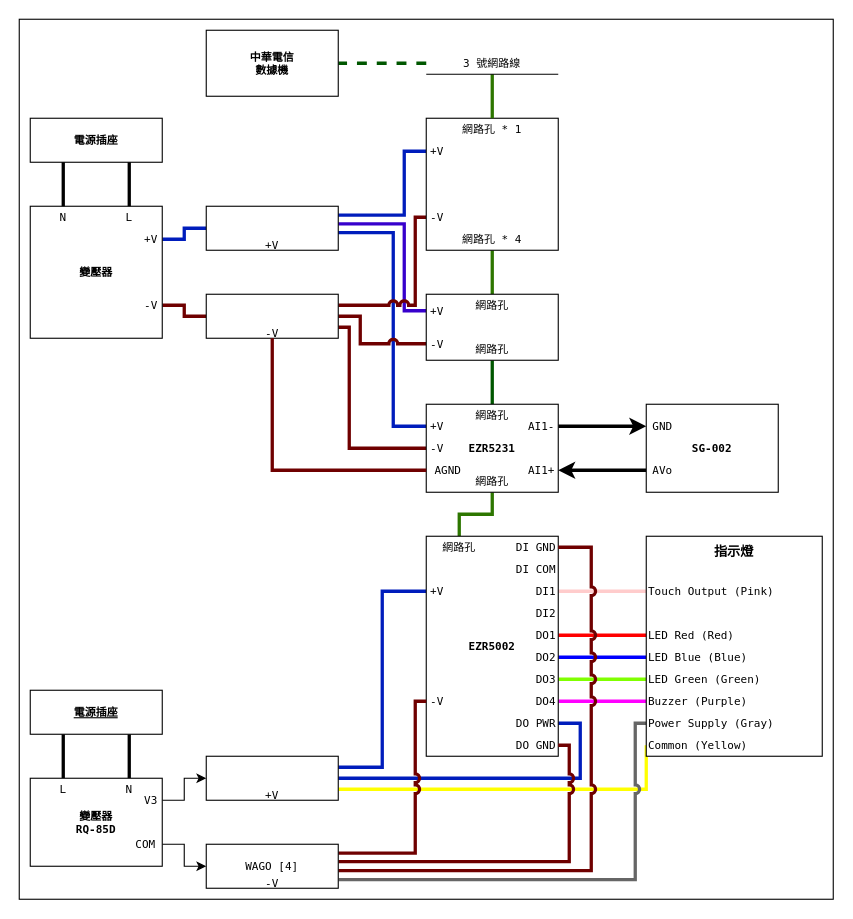
The diagram is 853 pixels wide and 919 high, and some of its shapes have lost their labels. Each missing label, with the box of its shape:
Gateway: (425, 293, 558, 360)
Switch: (425, 117, 558, 250)
WAGO [1]: (205, 205, 338, 250)
WAGO [2]: (205, 293, 338, 338)
WAGO [3]: (205, 755, 338, 800)
